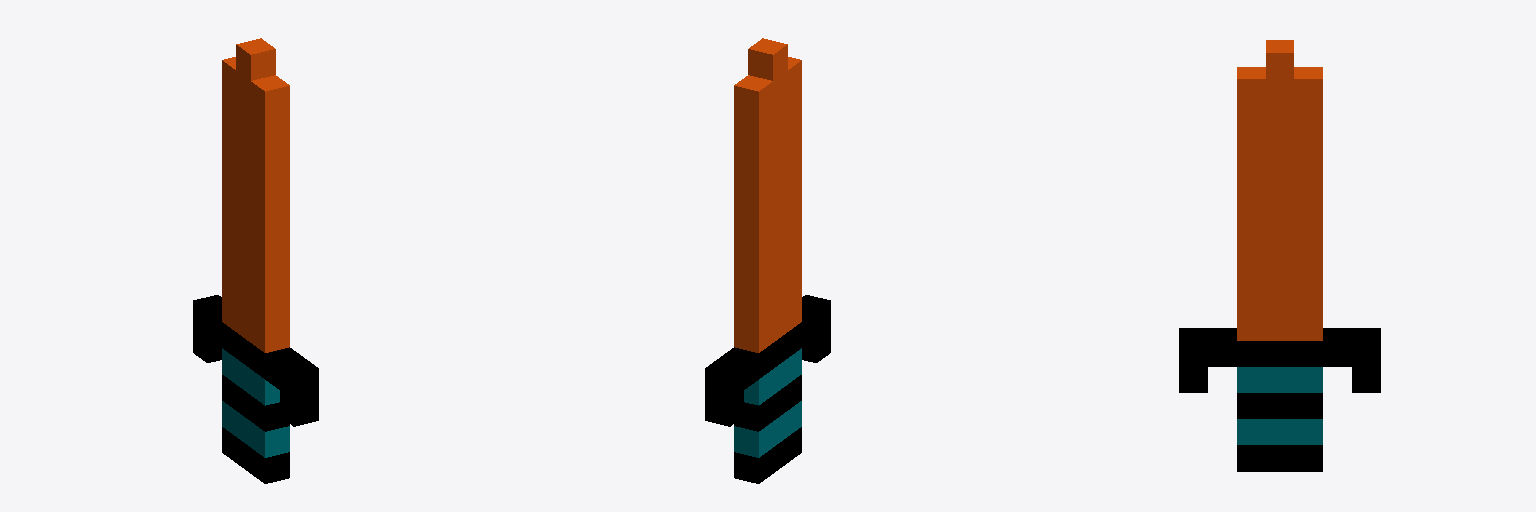
3 views of the same model, side by side, from view 1: azimuth 30°, elevation 25°; view 2: azimuth 150°, elevation 25°; view 3: azimuth 270°, elevation 25° (orthographic).
Size of the model in its own units: 1 by 16 by 7.
Materials: 1 (1 with a texture image).